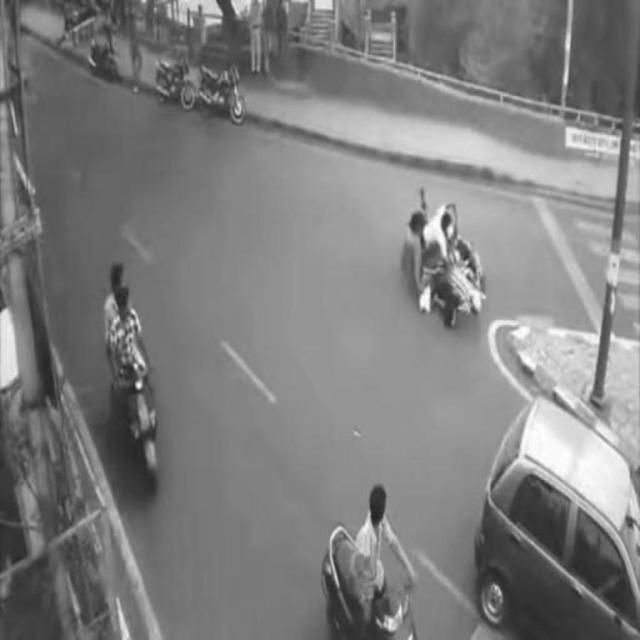accident: (402, 198, 484, 324)
vehicle: (474, 395, 640, 639), (104, 256, 168, 487), (326, 485, 418, 639), (196, 63, 246, 125), (154, 58, 192, 108)
